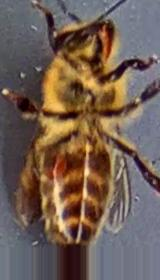varroa_mite: (36, 146, 68, 182)
